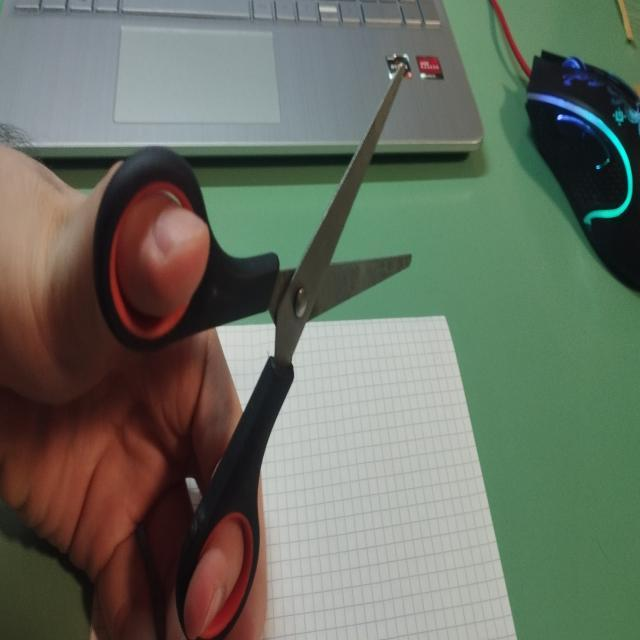tesoura: (89, 59, 418, 640)
